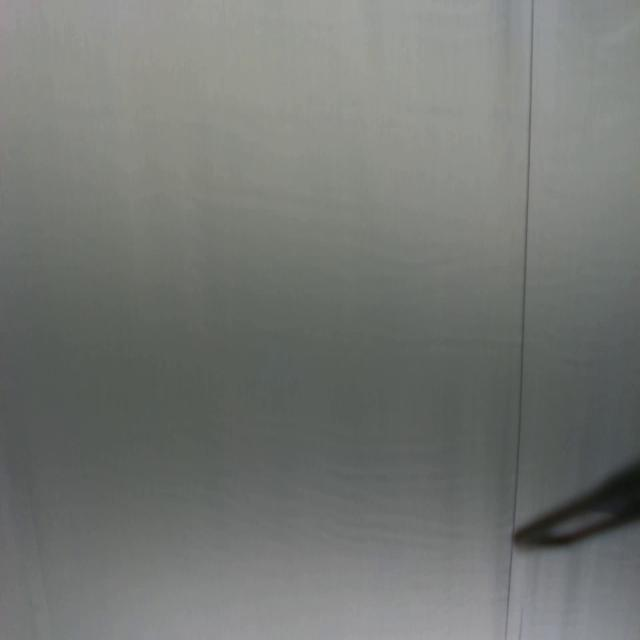crease: (514, 0, 536, 516), (504, 529, 515, 640)
